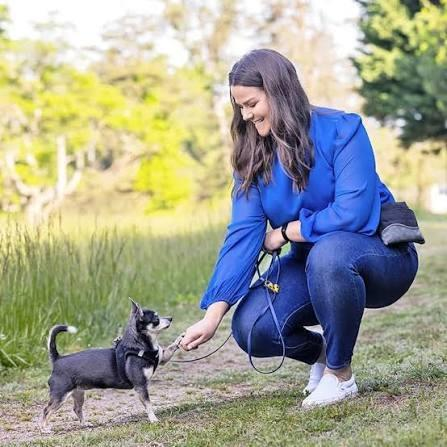adult_dog: (38, 296, 185, 431)
non-dog: (178, 47, 425, 414)
